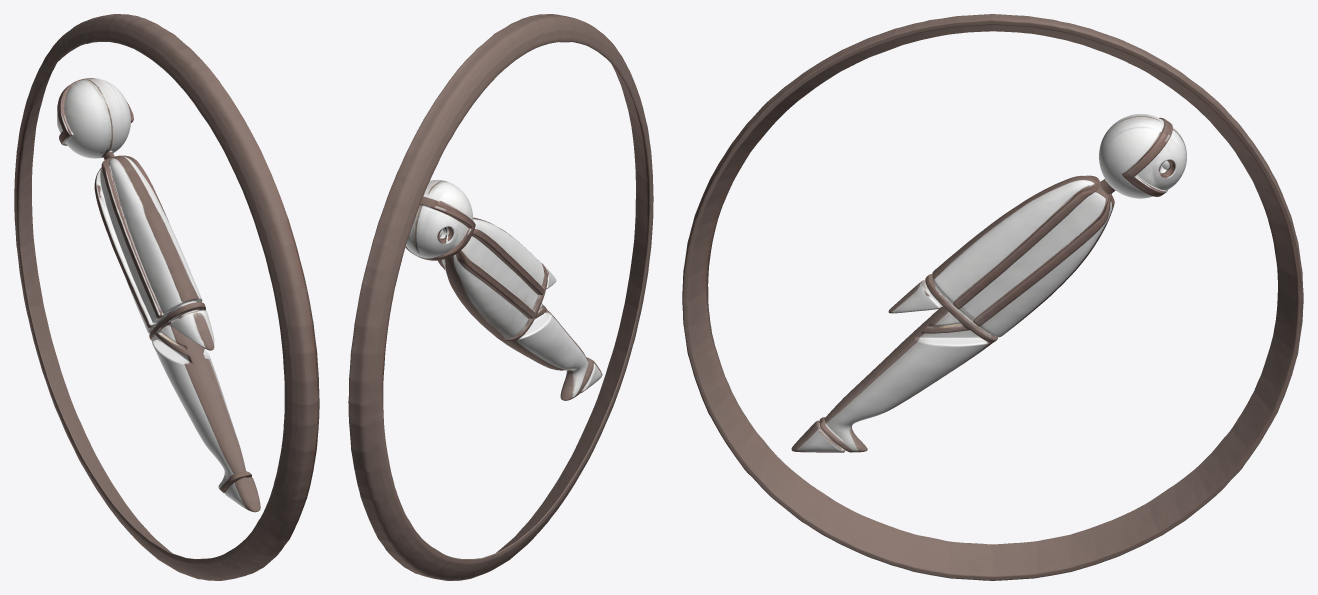
Rendered from postman.glb.
3 renders of one model, left to right at view 1: azimuth 30°, elevation 25°; view 2: azimuth 150°, elevation 25°; view 3: azimuth 270°, elevation 25°, orthographic. The views are drawn at different scales.
Parts seen in each view (by area): view 1: tripo_node_f23a8fc0-804e-48bf-86d2-f7fc0cd8a469; view 2: tripo_node_f23a8fc0-804e-48bf-86d2-f7fc0cd8a469; view 3: tripo_node_f23a8fc0-804e-48bf-86d2-f7fc0cd8a469.
Boxes of the visible parts, left/top/right/bottom form: tripo_node_f23a8fc0-804e-48bf-86d2-f7fc0cd8a469: left=14, top=14, right=319, bottom=580; tripo_node_f23a8fc0-804e-48bf-86d2-f7fc0cd8a469: left=348, top=14, right=653, bottom=580; tripo_node_f23a8fc0-804e-48bf-86d2-f7fc0cd8a469: left=682, top=14, right=1303, bottom=580.
Size of the model in its own units: 0.1348 by 0.9969 by 1.
1 material, 1 textured.
